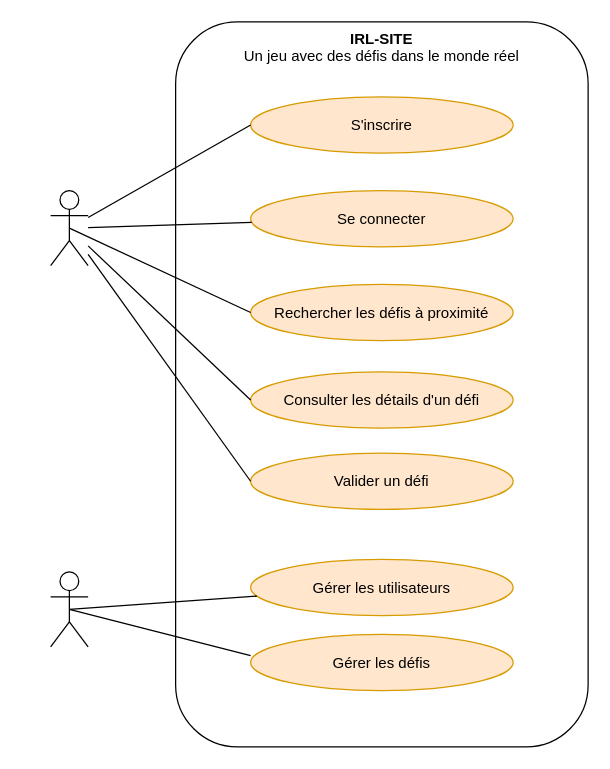
Image size: 610x769. Some labels were removed from this diagram. Here are the shapes that lost their labels. From the top down, the centre of each, then its label:
At (x=68, y=227): "Utilisateur".
At (x=68, y=609): "Administrateur".
